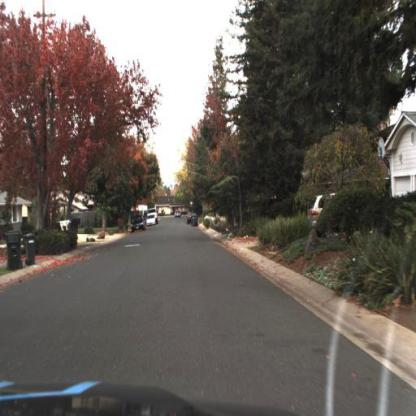car: (294, 191, 337, 229), (130, 215, 147, 235), (131, 214, 147, 233), (147, 210, 159, 228), (188, 211, 200, 229), (176, 211, 182, 218)
